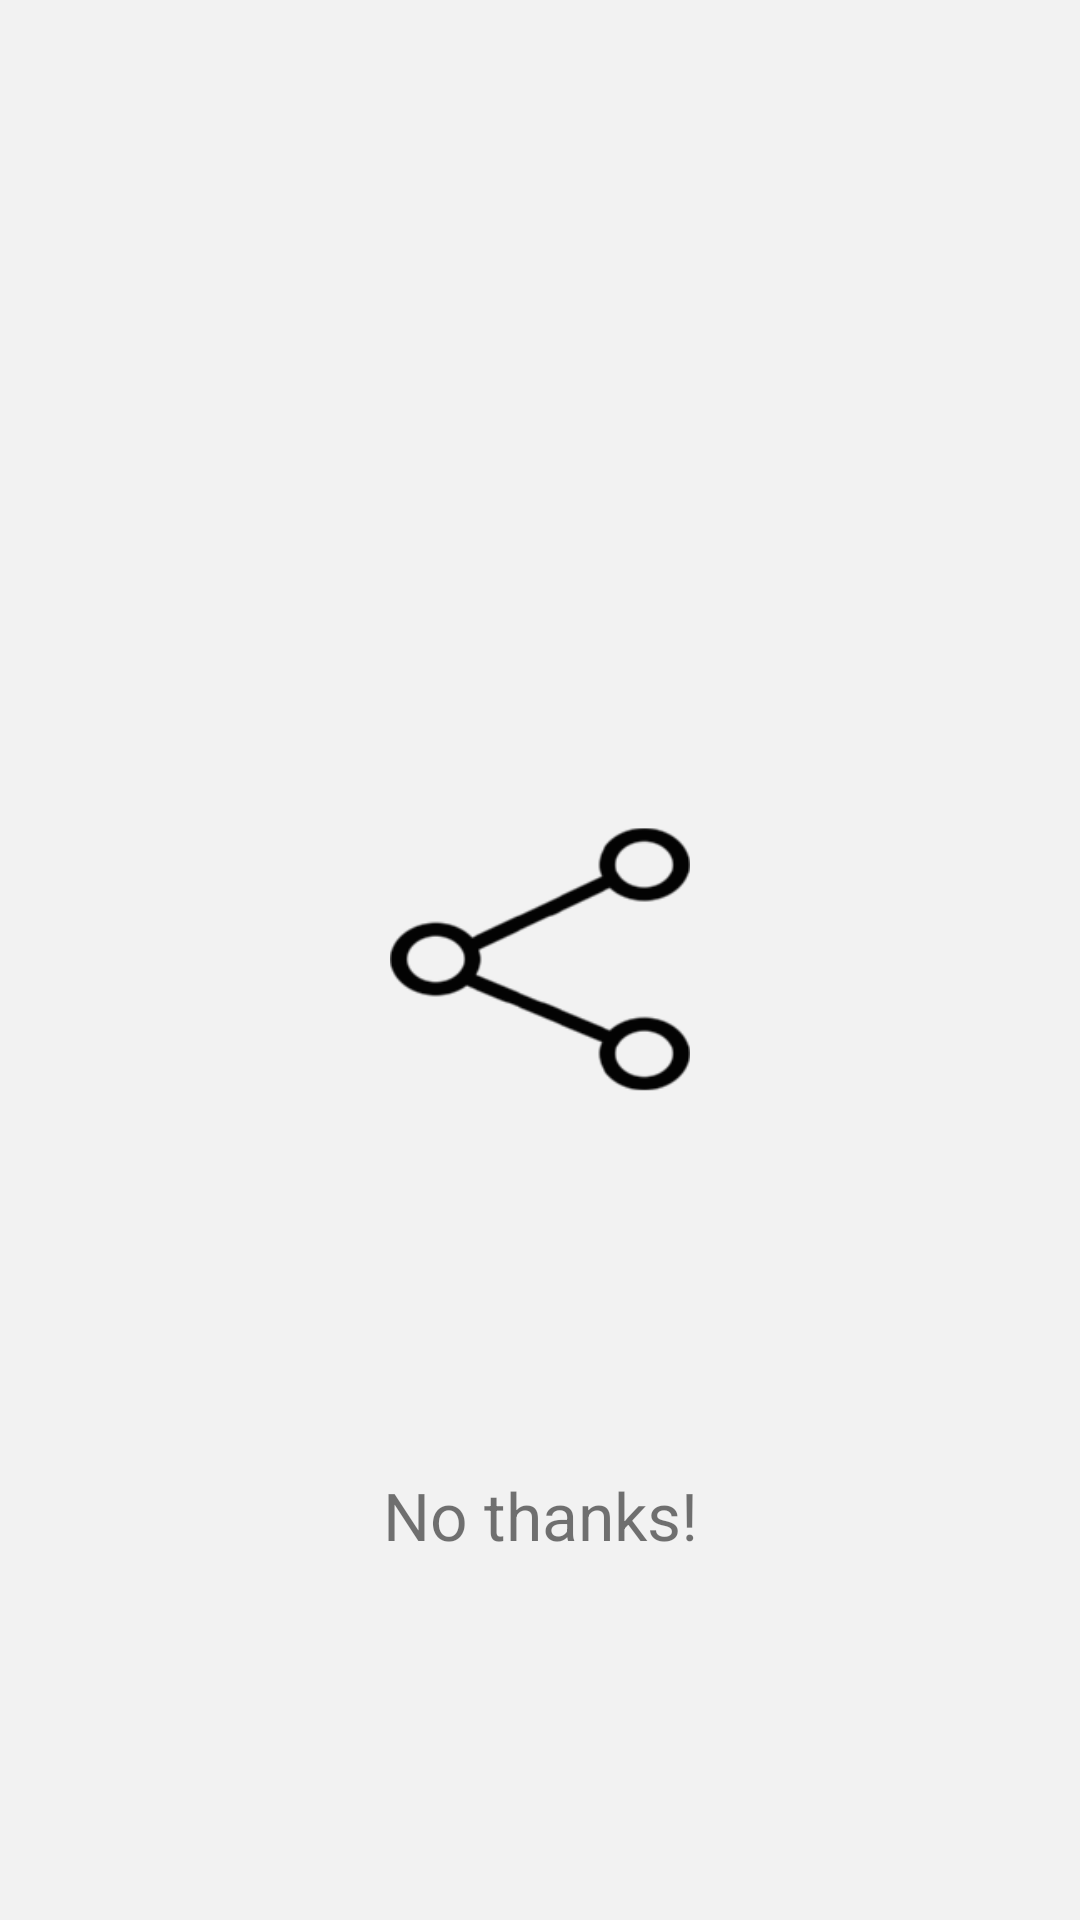

Named icons in this screenshot (1080w x 1920h) and their bounding boxes, rect(x1, y1, x2, y2):
share: rect(390, 828, 690, 1091)
